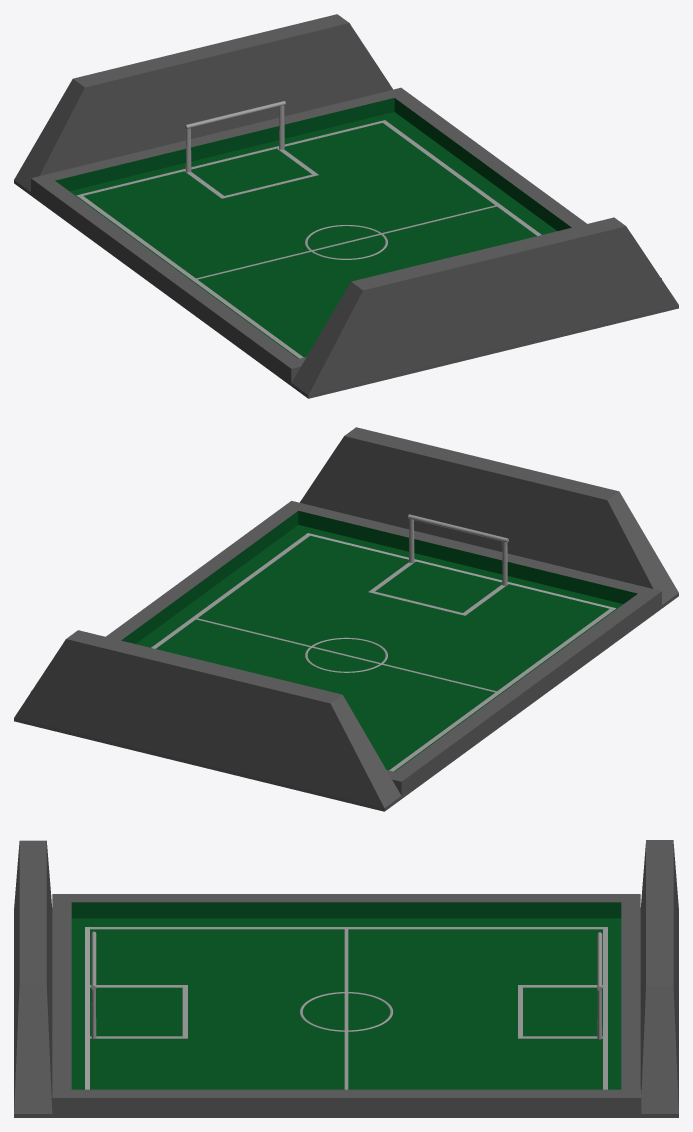
Rendered from FOOTBALL STADIUM_COLOR.004.glb.
The picture shows the model from 3 angles, top to bottom: view 1: azimuth 30°, elevation 25°; view 2: azimuth 150°, elevation 25°; view 3: azimuth 270°, elevation 25°; orthographic projection. The views are drawn at different scales.
Visible parts, largest first — view 1: FOOTBALL STADIUM_COLOR.004_0; view 2: FOOTBALL STADIUM_COLOR.004_0; view 3: FOOTBALL STADIUM_COLOR.004_0.
Boxes of the visible parts, bbox=[...] form: FOOTBALL STADIUM_COLOR.004_0: bbox=[14, 14, 678, 398]; FOOTBALL STADIUM_COLOR.004_0: bbox=[14, 427, 678, 811]; FOOTBALL STADIUM_COLOR.004_0: bbox=[14, 840, 678, 1117].
Bounding box in the file's own units: 4.47 × 1.07 × 6.15.
1 material, 1 textured.
